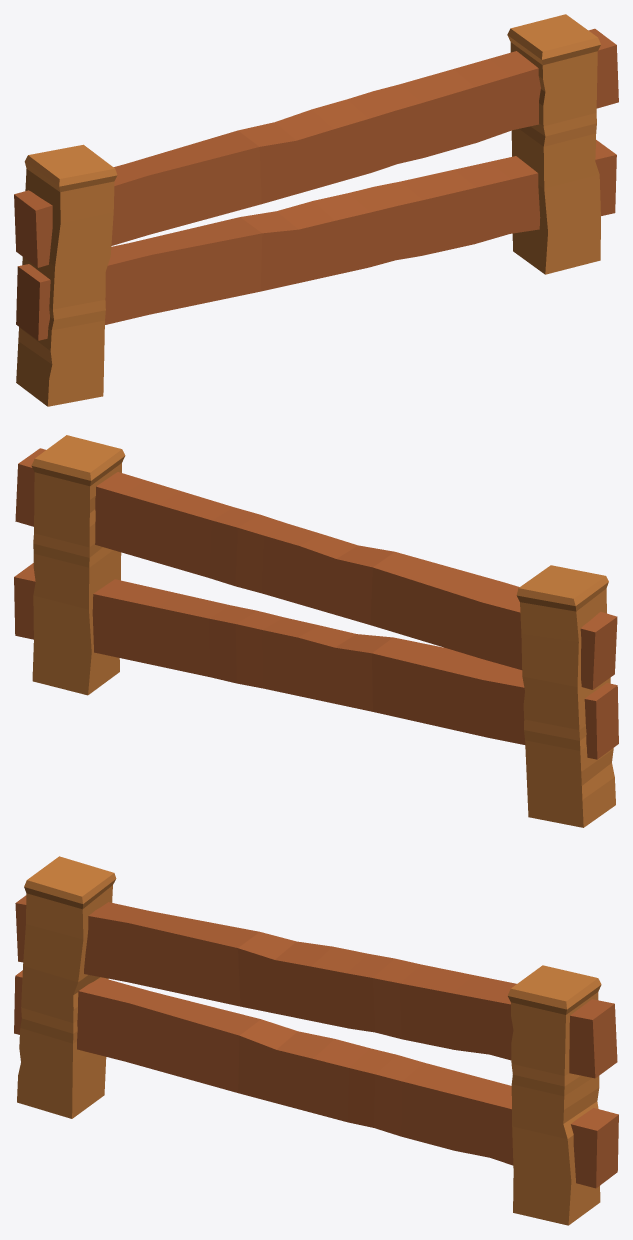
File: Fence.fbx
3 renders of one model, top to bottom at view 1: azimuth 30°, elevation 25°; view 2: azimuth 150°, elevation 25°; view 3: azimuth 330°, elevation 25°, orthographic.
Parts seen in each view (by area): view 1: Cube.002; view 2: Cube.002; view 3: Cube.002.
Part boxes in pixels (<box>): Cube.002: <box>14,14,618,406</box>; Cube.002: <box>14,435,618,827</box>; Cube.002: <box>14,856,618,1225</box>.
Size of the model in its own units: 749 by 293 by 77.95.
